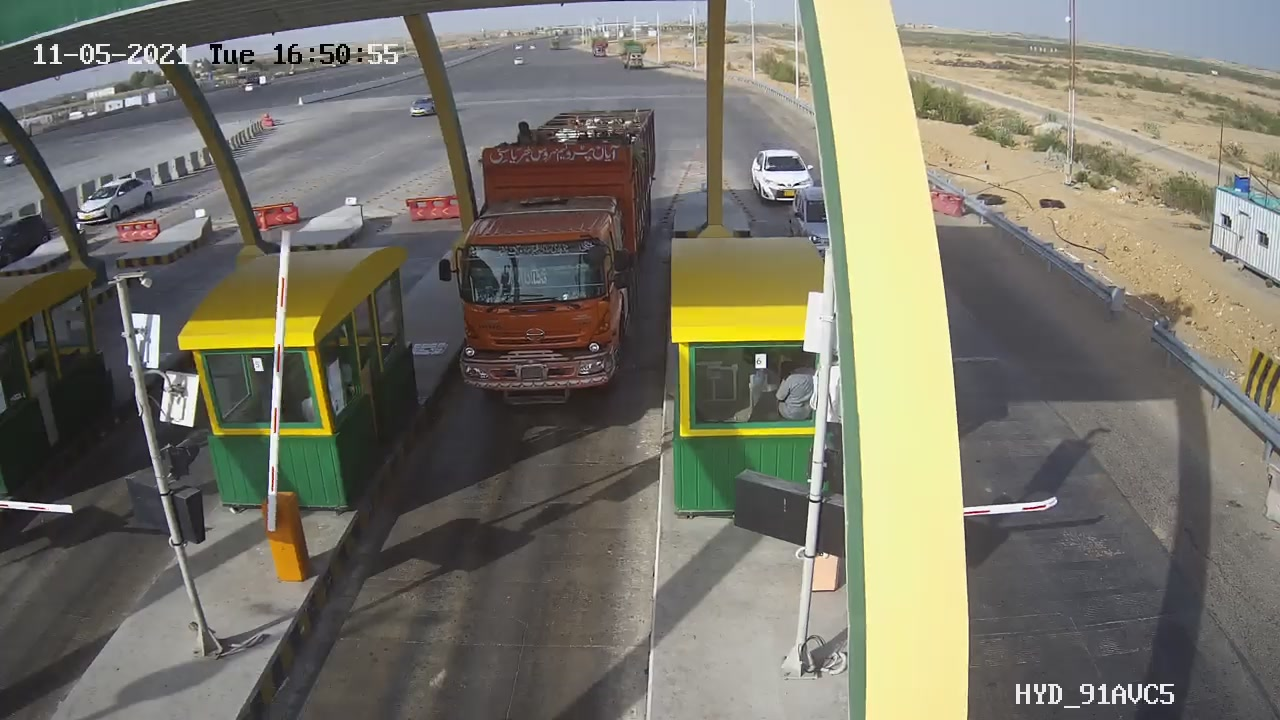F6: (423, 94, 679, 420)
